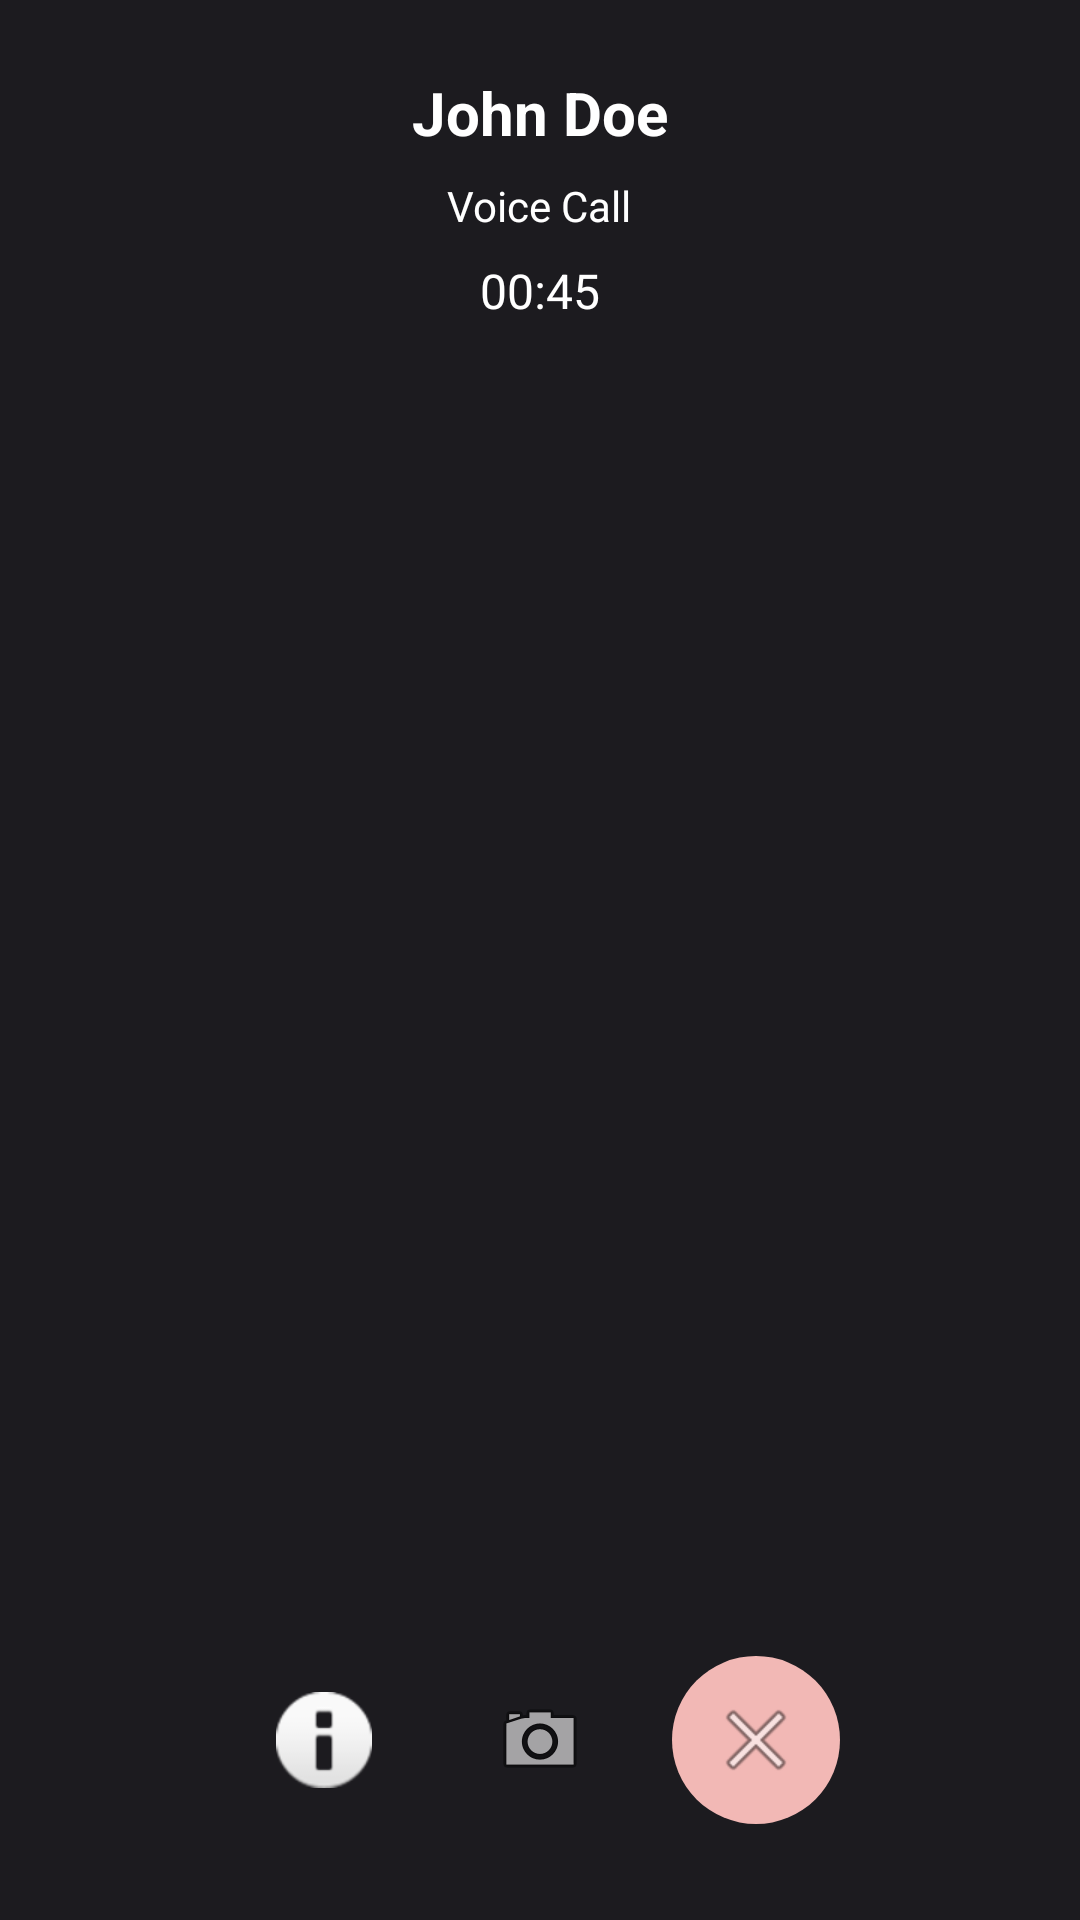

Locate icon controls on the screen. Image size 1080*1920, boxes as (x1, y1, x2, y2).
End Call: (672, 1656, 840, 1824)
Toggle Camera: (506, 1712, 574, 1765)
